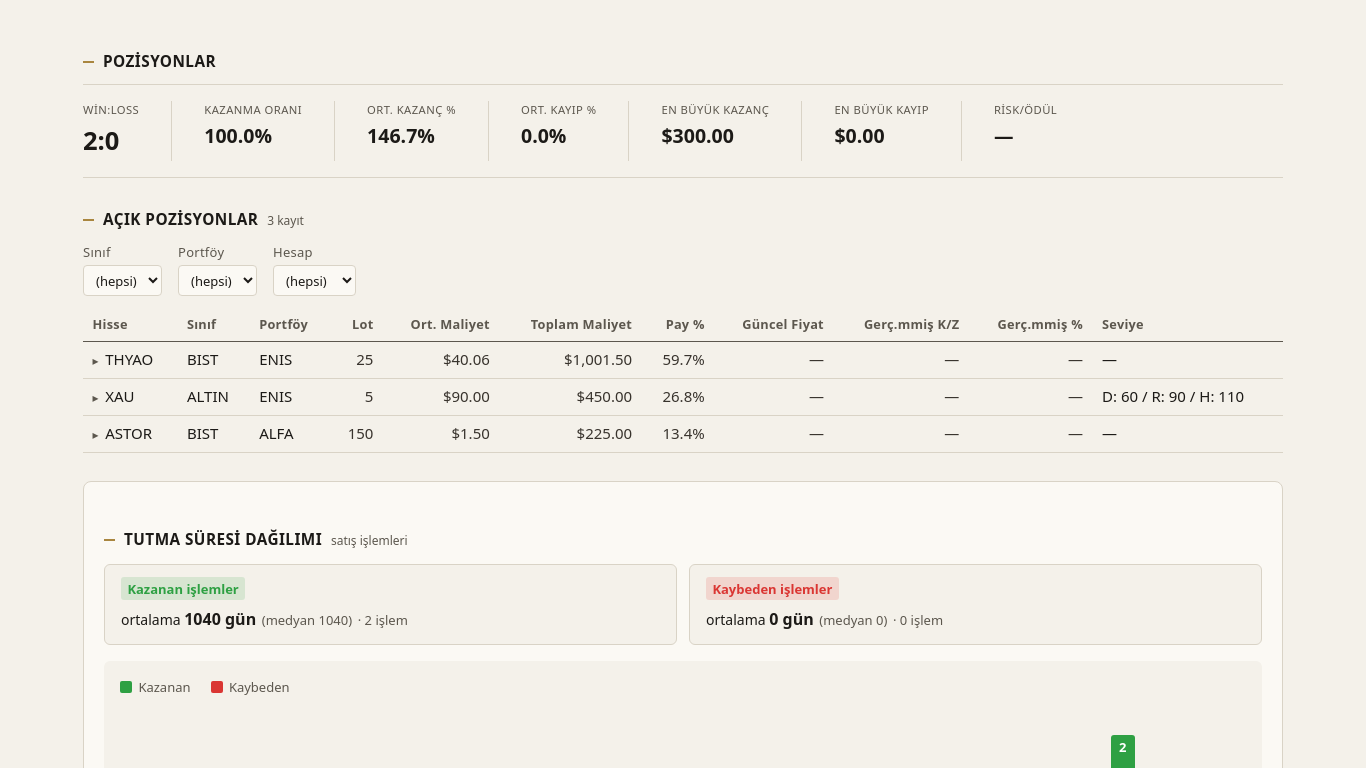
Scenario: Pozisyonlar › class filter narrows the open table
Check: the table shows "ASTOR", box left=105, top=423, right=152, bottom=443
Select "ALTIN" in the dropdown labelled "Sınıf" at (122, 281), box left=83, top=265, right=162, bottom=296
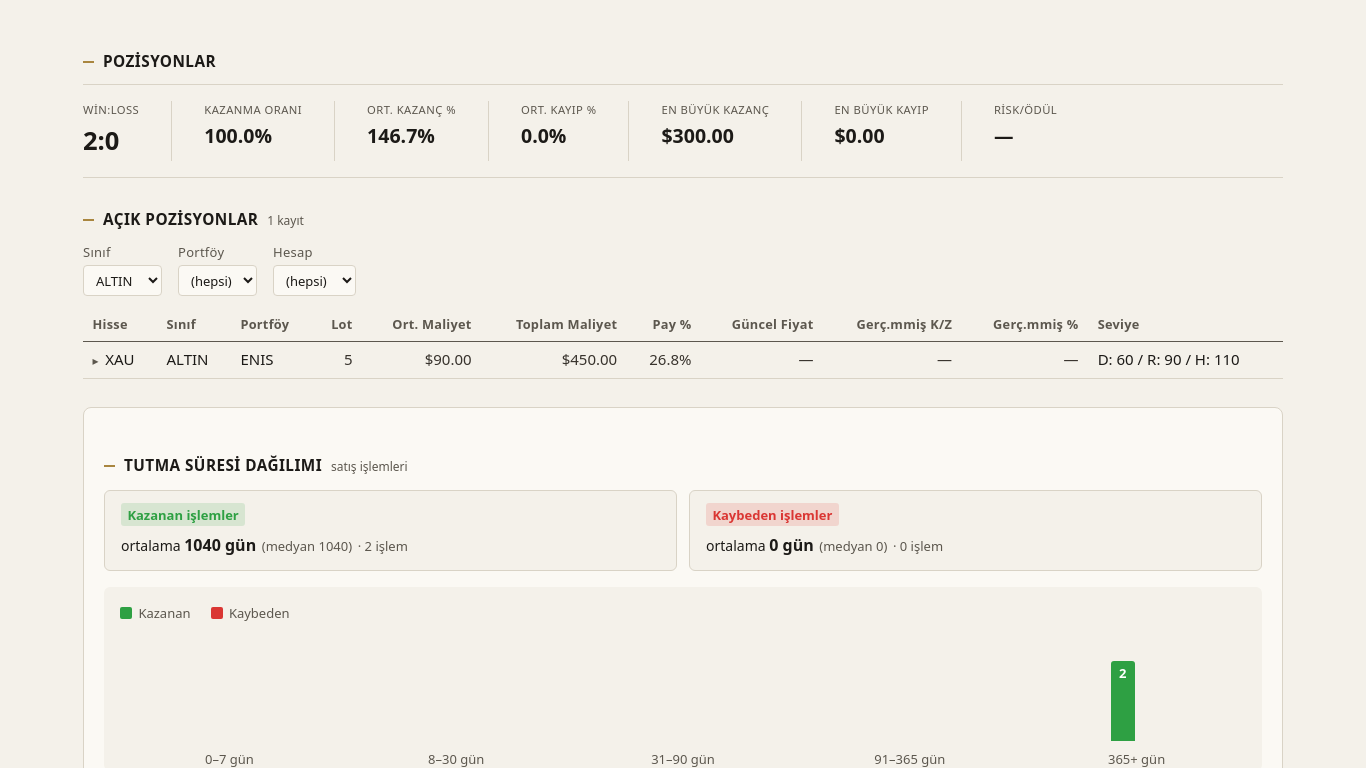
Check: the text "ASTOR" is gone
